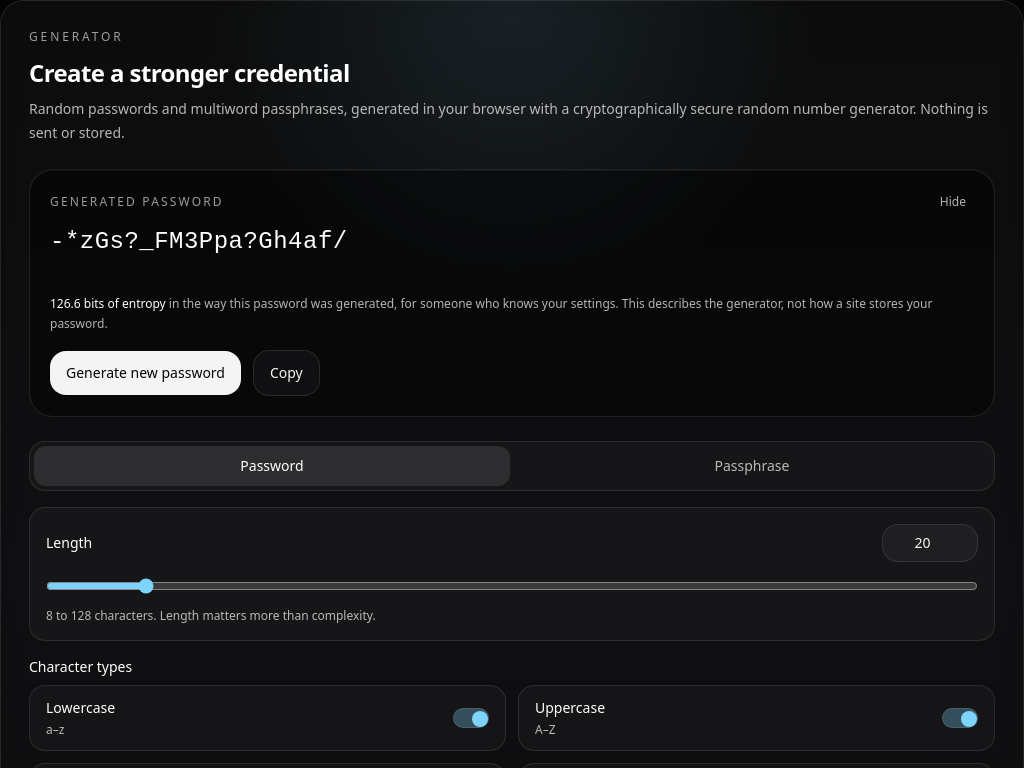
Test case: PasswordGenerator: the output never lags behind the settings › stops saying the old value was copied in the step a new one is generated
Click the button named "copy password to clipboard" at coordinates (286, 373), box [253,350,320,396]
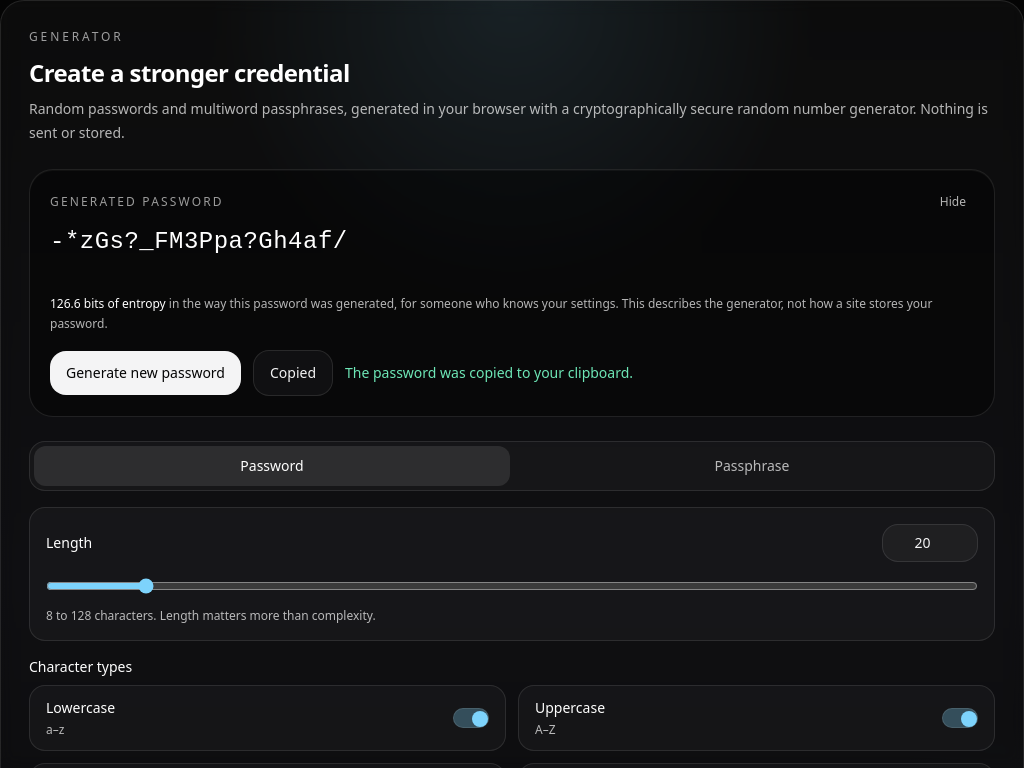
expect the text "The password was copied to your clipboard." is shown: met, box [345,363,633,383]
Click the button "Generate new password" at coordinates (146, 373), box [50,351,241,395]
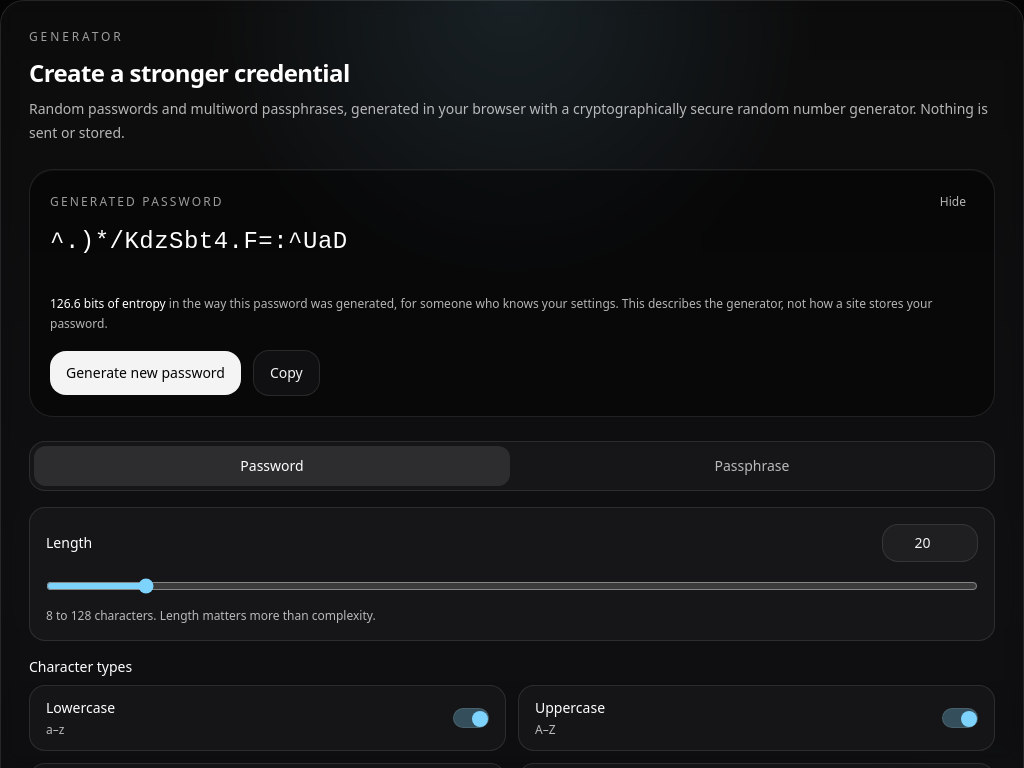
expect the text "was copied to your clipboard" is gone: met
